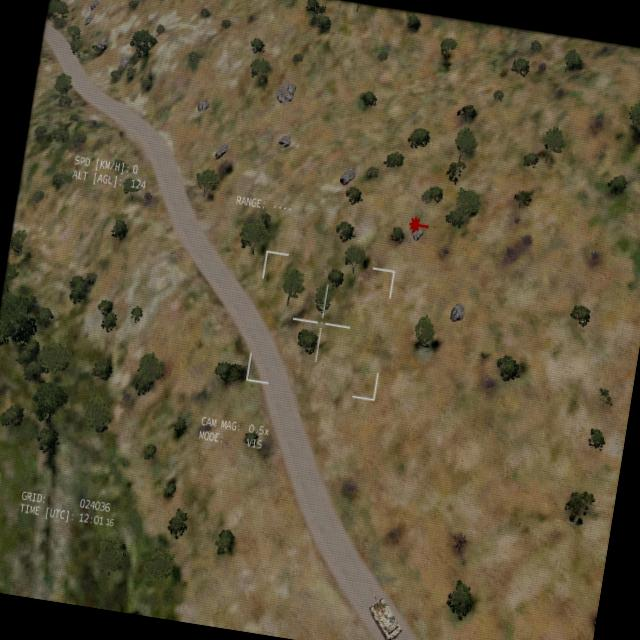tank: (359, 584, 409, 640)
